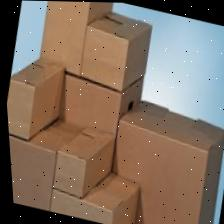cardboard: (91, 88, 224, 224), (27, 57, 148, 172), (5, 103, 87, 215), (71, 3, 158, 97), (2, 43, 76, 153), (43, 113, 119, 207), (42, 155, 143, 224), (30, 1, 110, 77)
